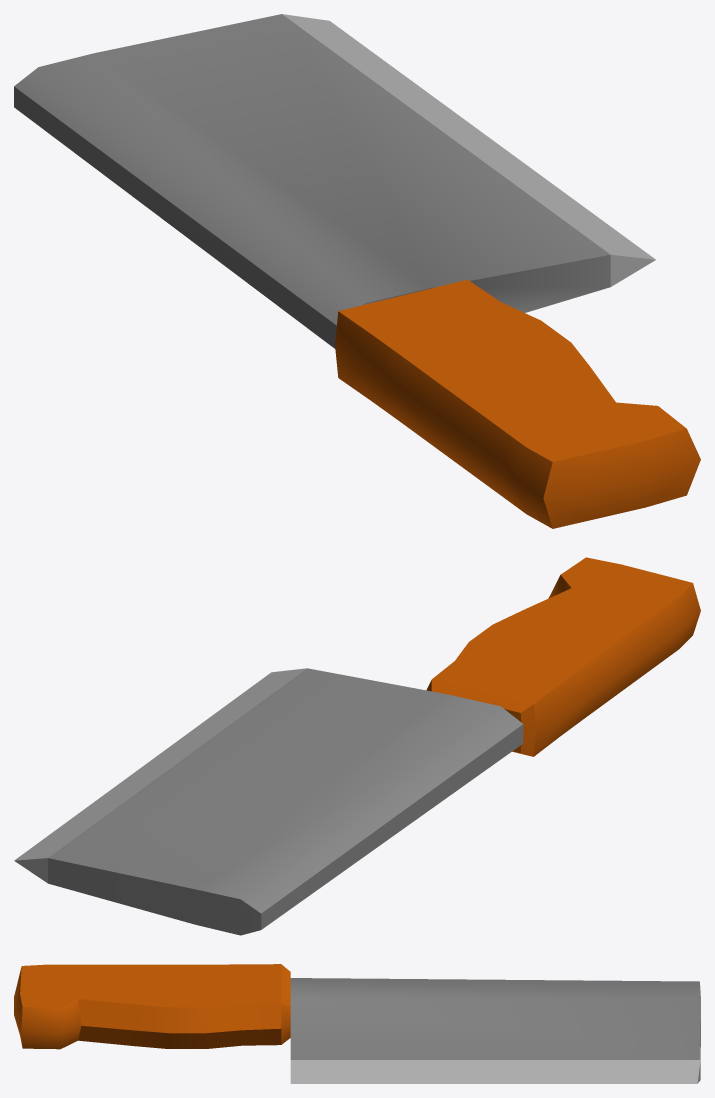
Rendered from Cleaver_01.fbx.
The picture shows the model from 3 angles, top to bottom: view 1: azimuth 30°, elevation 25°; view 2: azimuth 150°, elevation 25°; view 3: azimuth 270°, elevation 25°; orthographic projection. The views are drawn at different scales.
Visible parts, largest first — view 1: Cleaver_01; view 2: Cleaver_01; view 3: Cleaver_01.
Part boxes in pixels (box(x1,y1,x2,y2)): Cleaver_01: box(14, 14, 700, 528); Cleaver_01: box(14, 557, 700, 935); Cleaver_01: box(14, 964, 700, 1083).
Bounding box in the file's own units: 28.94 × 5.51 × 82.32.
